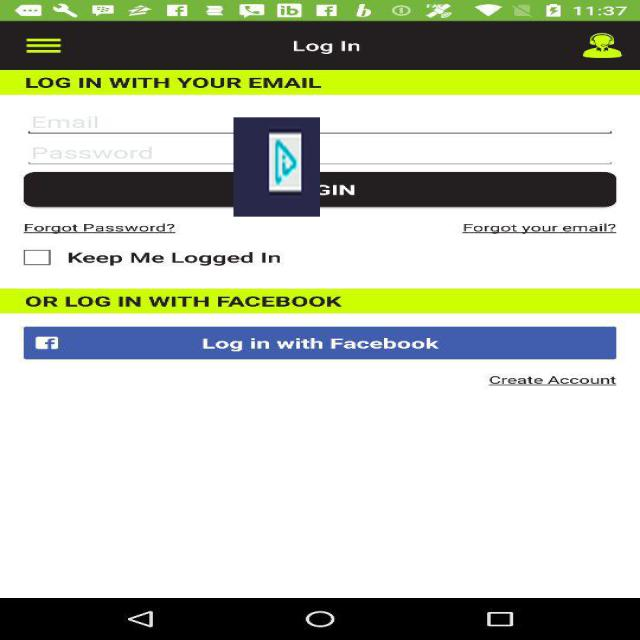sneaking: (233, 117, 320, 217)
